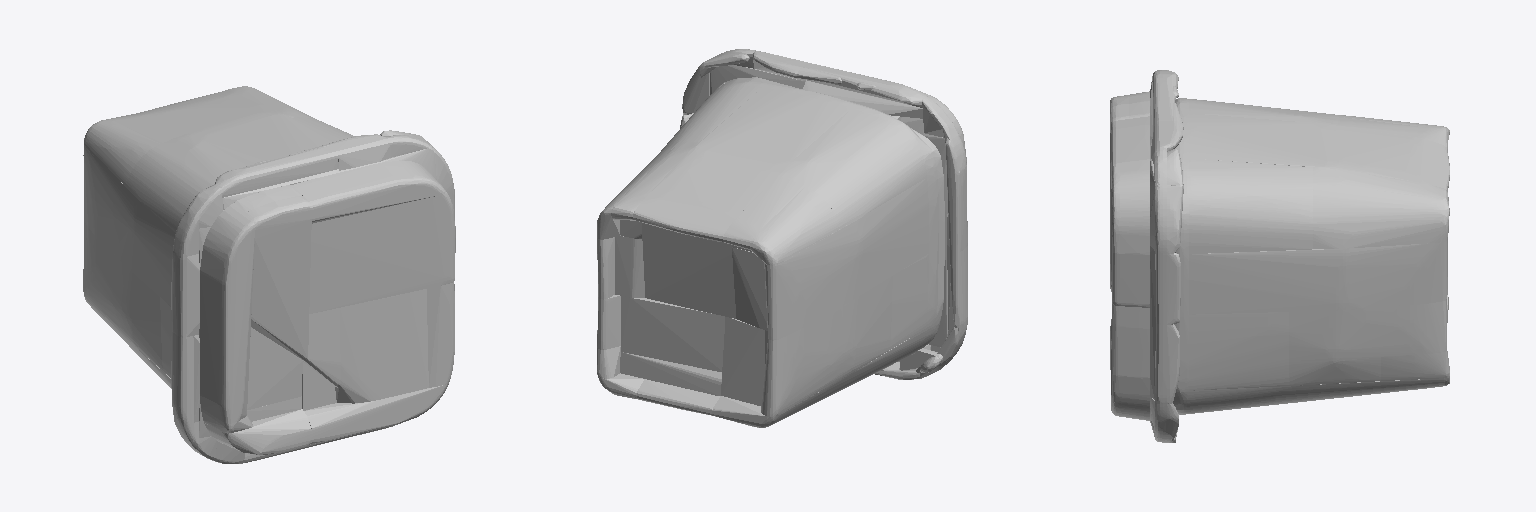
File: coacd_collision.obj
3 renders of one model, left to right at view 1: azimuth 30°, elevation 25°; view 2: azimuth 150°, elevation 25°; view 3: azimuth 270°, elevation 25°, orthographic.
Parts seen in each view (by area): view 1: geometry_7, geometry_12, geometry_79, geometry_14, geometry_8, geometry_6, geometry_1, geometry_2, geometry_42, geometry_19, geometry_11, geometry_34 (+18 smaller); view 2: geometry_8, geometry_6, geometry_1, geometry_42, geometry_9, geometry_23, geometry_27, geometry_4, geometry_0, geometry_56, geometry_18, geometry_21 (+26 smaller); view 3: geometry_25, geometry_8, geometry_22, geometry_40, geometry_20, geometry_55, geometry_16, geometry_2, geometry_7, geometry_17, geometry_58, geometry_43 (+13 smaller).
Part boxes in pixels (bbox=[...]): geometry_7: bbox=[309, 192, 455, 313]; geometry_12: bbox=[200, 203, 254, 423]; geometry_79: bbox=[335, 289, 428, 403]; geometry_14: bbox=[246, 196, 311, 361]; geometry_8: bbox=[136, 91, 331, 165]; geometry_6: bbox=[83, 147, 175, 305]; geometry_1: bbox=[126, 133, 246, 232]; geometry_2: bbox=[293, 161, 445, 223]; geometry_42: bbox=[86, 226, 162, 370]; geometry_19: bbox=[235, 185, 302, 409]; geometry_11: bbox=[304, 383, 448, 443]; geometry_34: bbox=[215, 146, 338, 197]; geometry_8: bbox=[633, 88, 851, 241]; geometry_6: bbox=[764, 178, 928, 340]; geometry_1: bbox=[778, 108, 926, 228]; geometry_42: bbox=[765, 276, 892, 411]; geometry_9: bbox=[642, 223, 735, 318]; geometry_23: bbox=[621, 296, 724, 371]; geometry_27: bbox=[750, 187, 839, 265]; geometry_4: bbox=[721, 317, 764, 405]; geometry_0: bbox=[712, 329, 925, 427]; geometry_56: bbox=[795, 89, 938, 354]; geometry_18: bbox=[890, 254, 928, 349]; geometry_21: bbox=[620, 352, 721, 395]; geometry_25: bbox=[1189, 240, 1447, 314]; geometry_8: bbox=[1189, 113, 1449, 191]; geometry_22: bbox=[1189, 158, 1312, 253]; geometry_40: bbox=[1289, 300, 1446, 360]; geometry_20: bbox=[1189, 312, 1288, 390]; geometry_55: bbox=[1313, 183, 1449, 248]; geometry_16: bbox=[1112, 304, 1149, 404]; geometry_2: bbox=[1111, 116, 1149, 212]; geometry_7: bbox=[1112, 209, 1149, 307]; geometry_17: bbox=[1276, 377, 1449, 404]; geometry_58: bbox=[1289, 358, 1380, 385]; geometry_43: bbox=[1173, 194, 1188, 413].
Bounding box in the file's own units: 117 × 117 × 124.